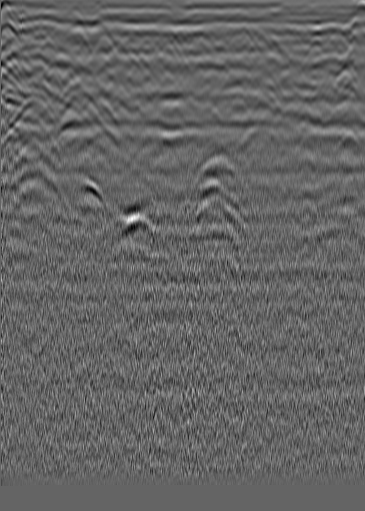가스: (117, 208, 152, 235)
상수: (303, 28, 323, 48)
오수: (33, 19, 53, 39)
우수: (170, 30, 190, 50)
